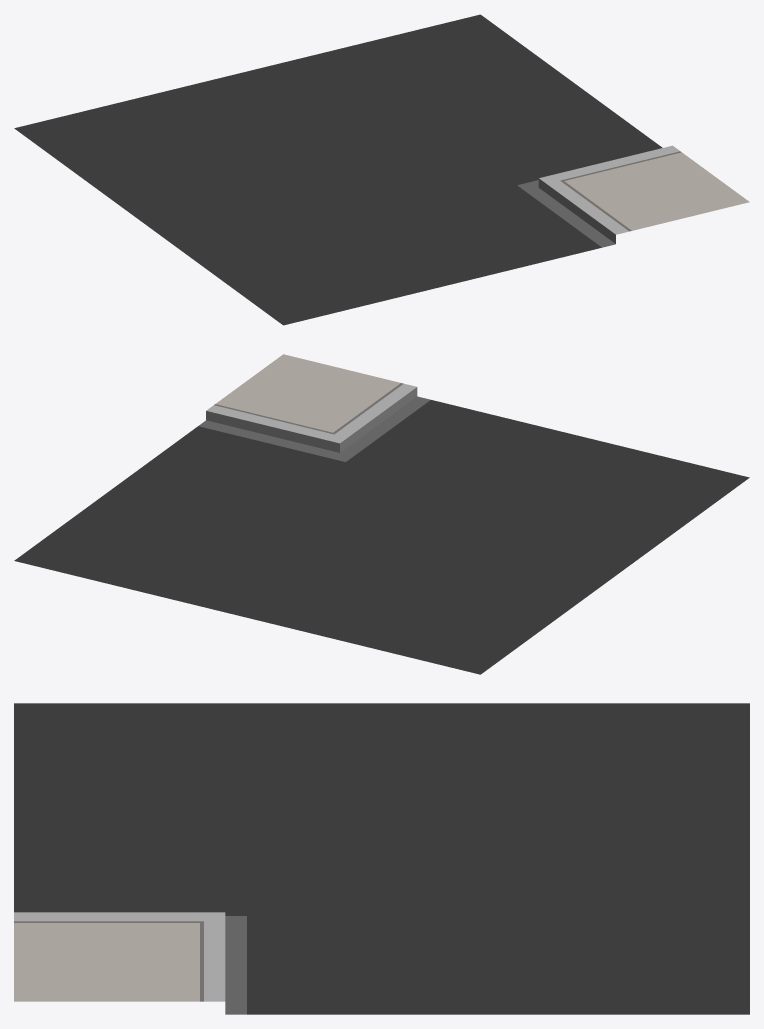
Rendered from SA_Env_Road_Corner_01.gltf.
The picture shows the model from 3 angles, top to bottom: view 1: azimuth 30°, elevation 25°; view 2: azimuth 150°, elevation 25°; view 3: azimuth 270°, elevation 25°; orthographic projection. The views are drawn at different scales.
Visible parts, largest first — view 1: SA_Env_Road_Corner_01; view 2: SA_Env_Road_Corner_01; view 3: SA_Env_Road_Corner_01.
Boxes of the visible parts, x1,y1,x2,y2 form: SA_Env_Road_Corner_01: [14, 14, 749, 325]; SA_Env_Road_Corner_01: [14, 354, 749, 674]; SA_Env_Road_Corner_01: [14, 703, 749, 1014].
Size of the model in its own units: 10 by 0.1948 by 10.
1 material, 1 textured.
